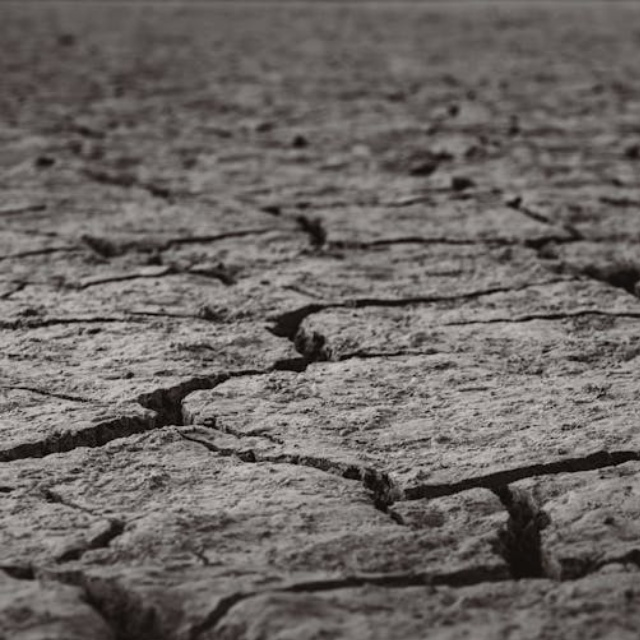深大裂缝: (0, 237, 378, 545)
